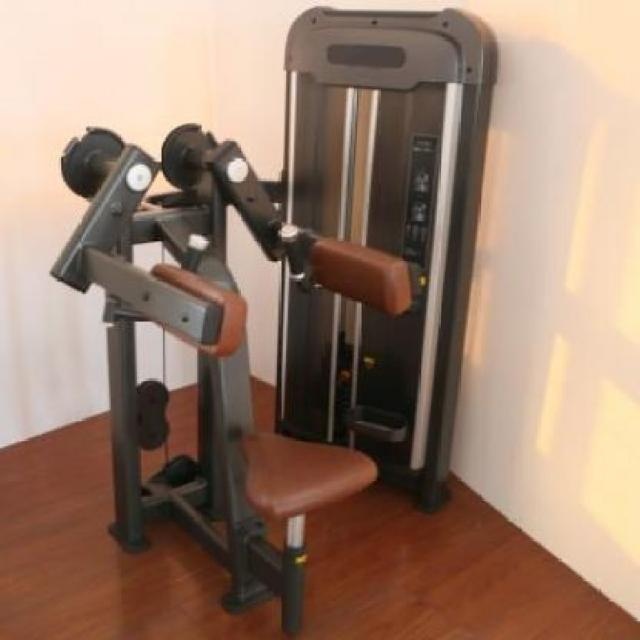lateral raises machine: (48, 6, 500, 634)
